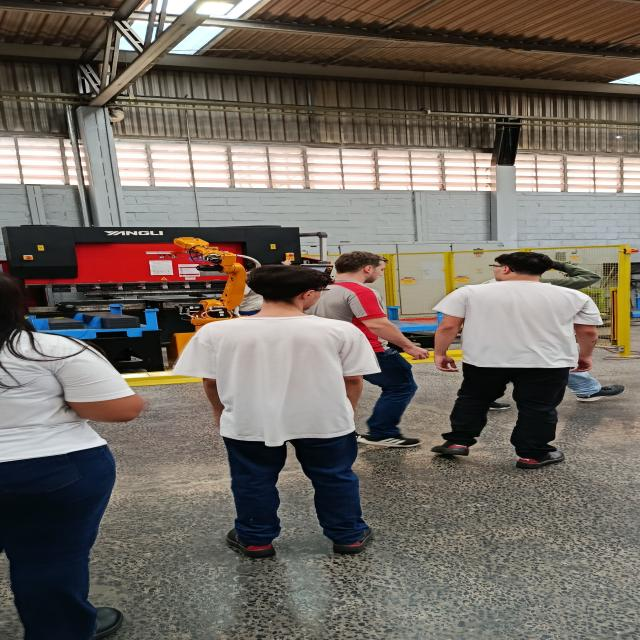oculos-epi: (293, 288, 330, 297), (488, 265, 514, 271)
sem_oculos: (354, 257, 398, 273)
